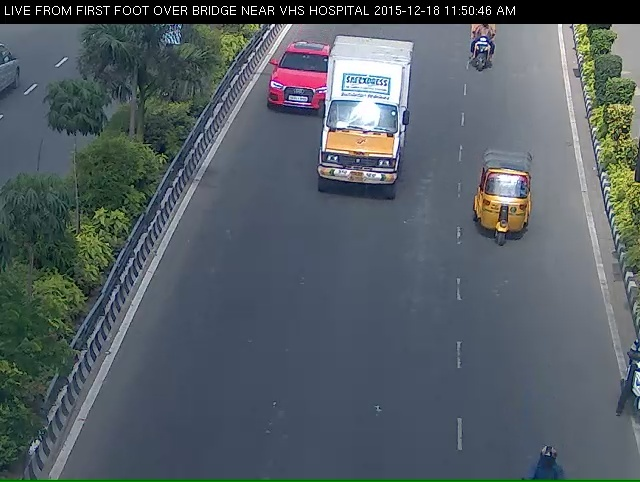Bus: (318, 46, 405, 204)
Car: (475, 165, 533, 256), (270, 50, 324, 120)
Person: (464, 25, 500, 75)
